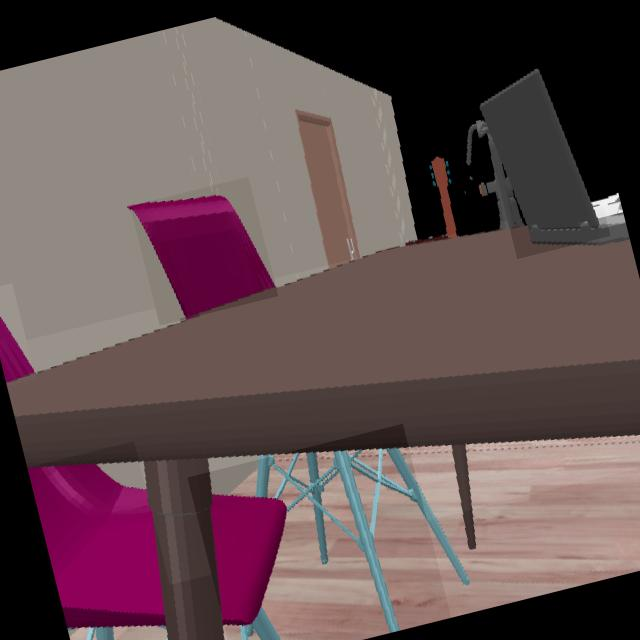chair: (211, 449, 426, 640), (27, 464, 167, 640), (130, 199, 276, 318), (0, 316, 34, 385)
laptop: (479, 69, 608, 243)
table: (7, 224, 640, 509)
